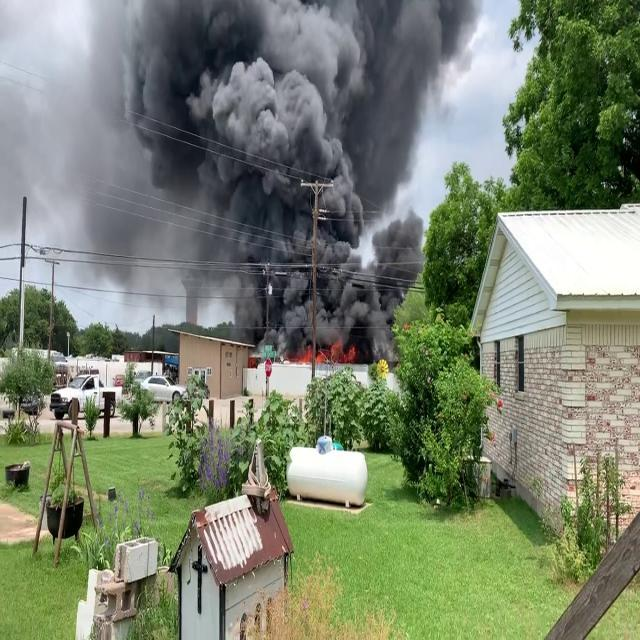Smoke: (156, 0, 452, 350), (0, 0, 186, 280)
